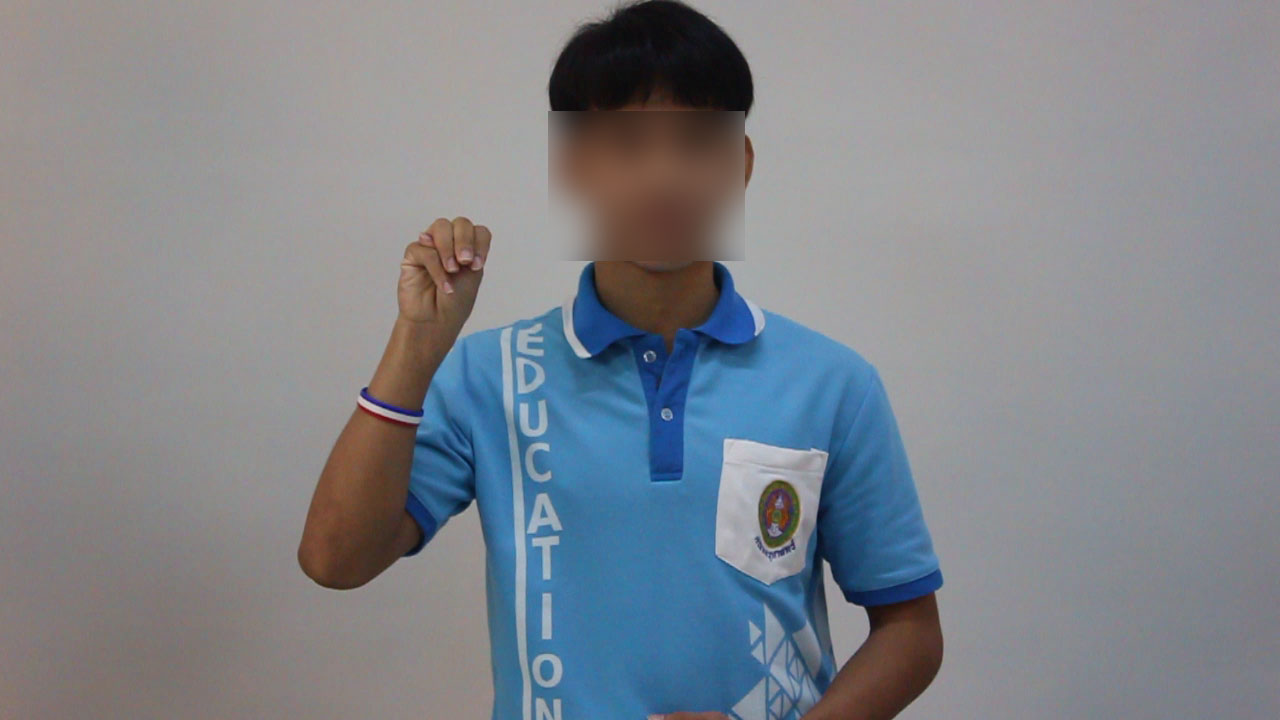mor: (388, 194, 502, 352)
